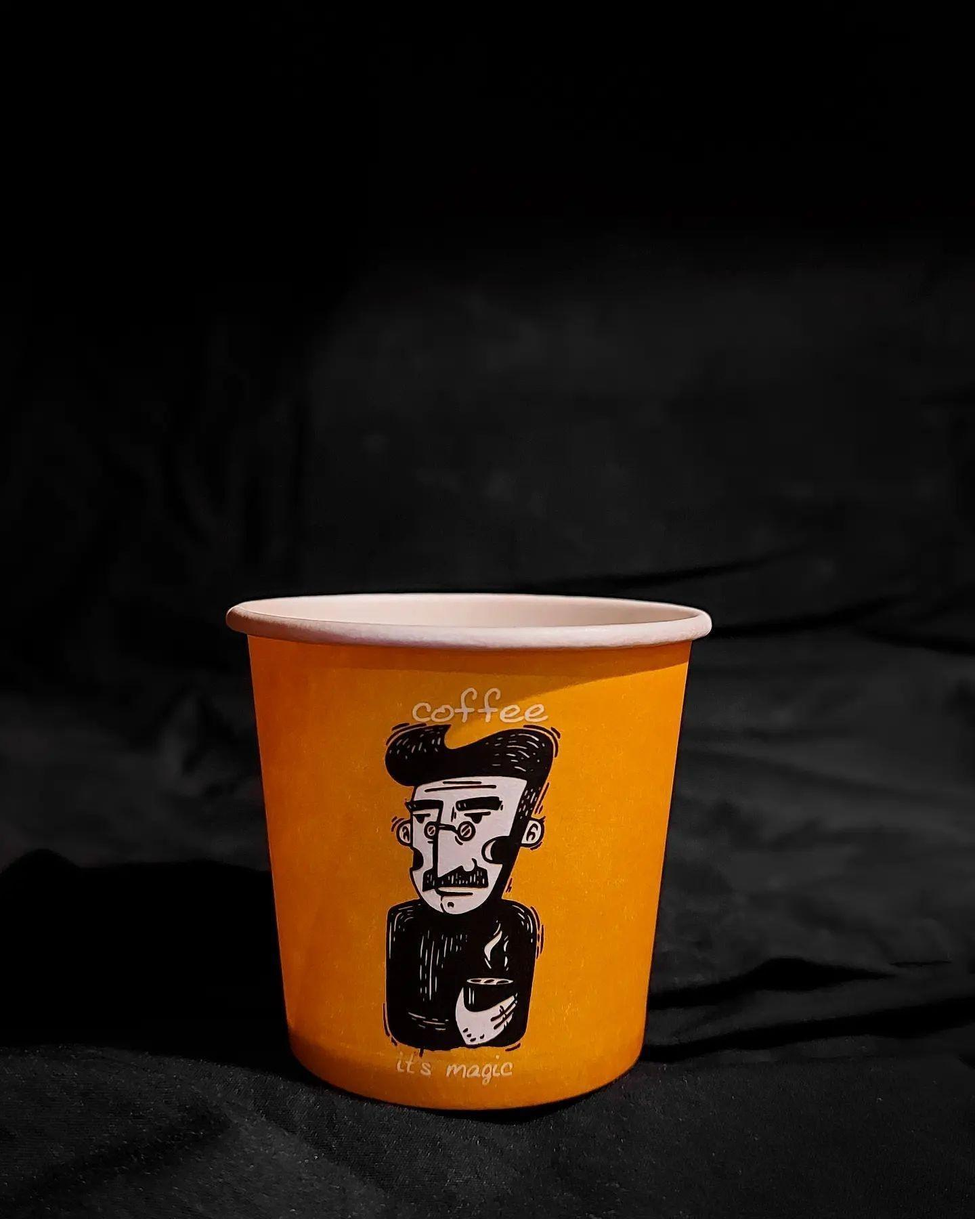cup-disposable: (218, 574, 733, 1124)
